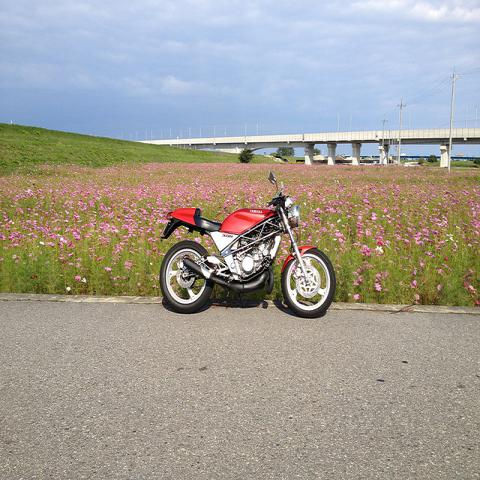motorcycle: (160, 167, 336, 319)
